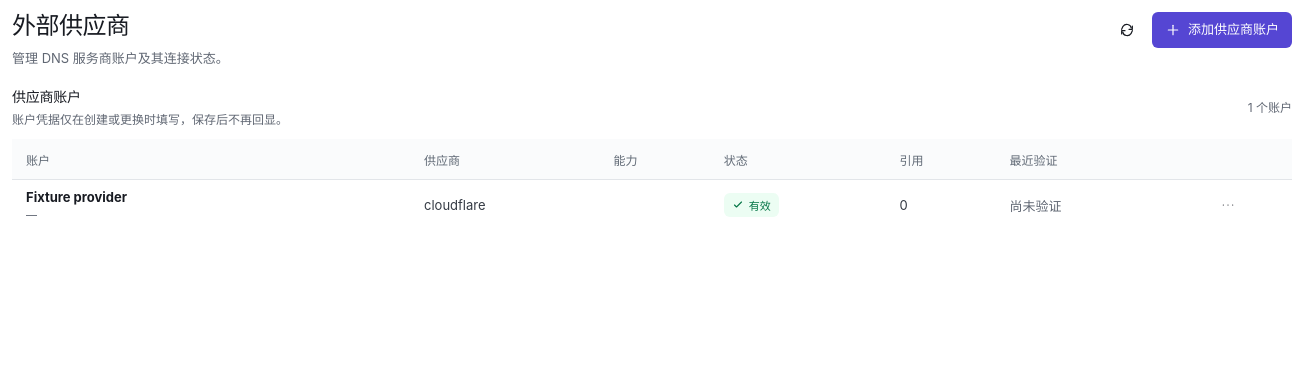
Scenario: Provider integration deletion › keeps verification failure visible after refreshing the account status
Step 1. Press ArrowDown in the button named "Fixture provider 的操作", box [1212,189,1244,221]
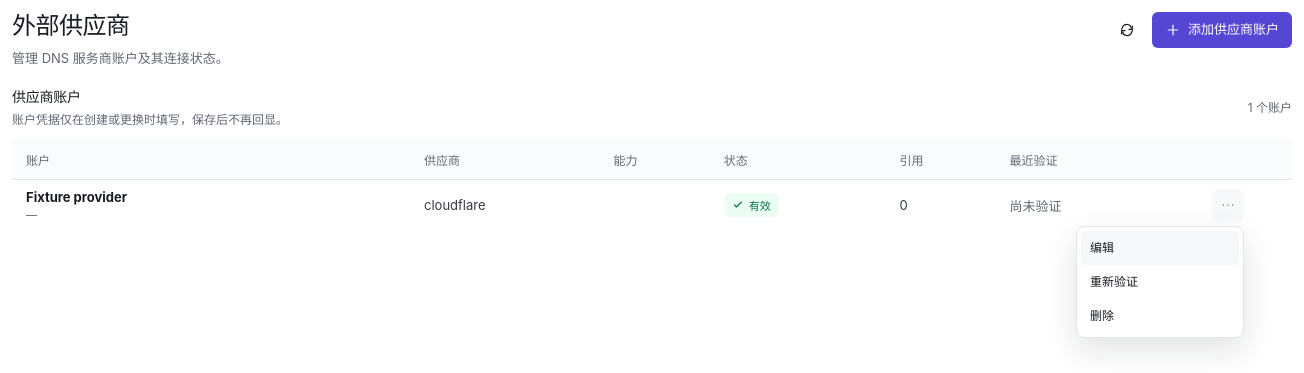
Now the menu item "重新验证" is shown
Step 2. Click the menu item "重新验证" → (1160, 282), box [1081,265,1239,299]
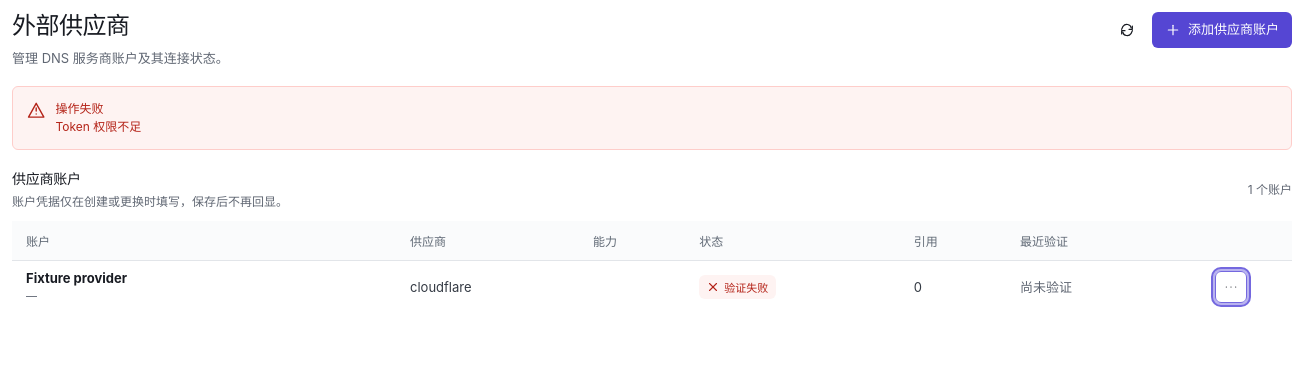
Now the text "Token 权限不足" is shown, box [55,119,141,134]
Now the text "验证失败" is shown, box [724,279,768,295]
